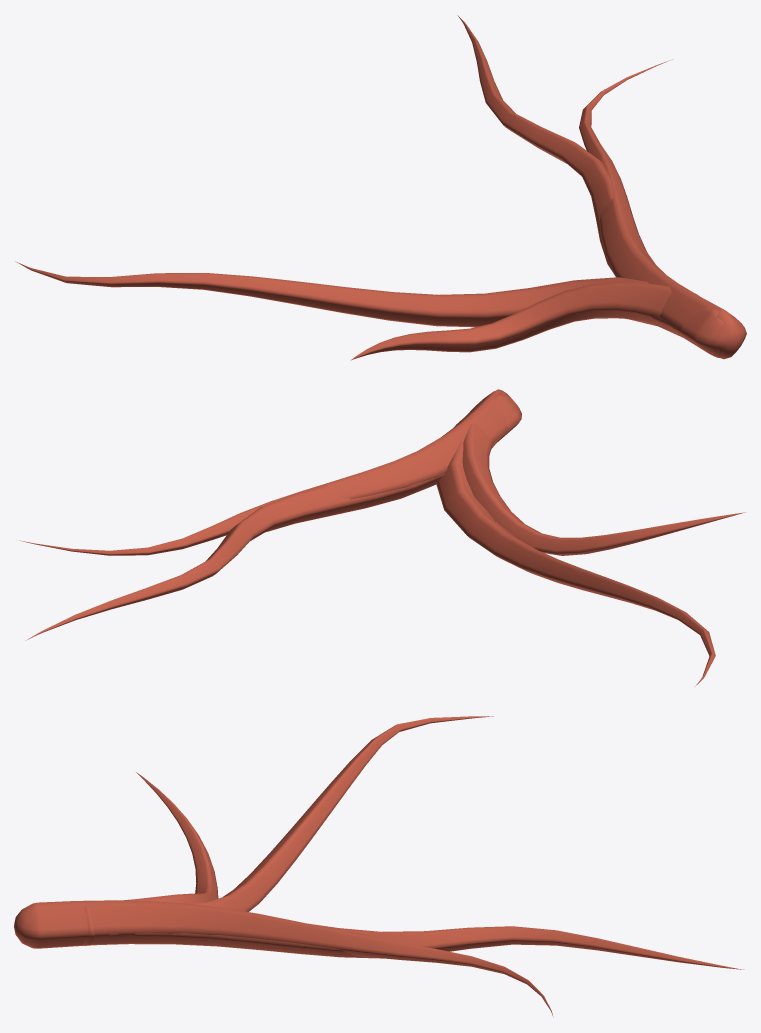
Rendered from fan1 curves.fbx.
3 views of the same model, one above another, from view 1: azimuth 30°, elevation 25°; view 2: azimuth 150°, elevation 25°; view 3: azimuth 270°, elevation 25° (orthographic). The views are drawn at different scales.
Visible parts, largest first — view 1: fan1_curve4, fan1_curve3, fan1_curve2, fan1_curve1; view 2: fan1_curve4, fan1_curve2, fan1_curve1, fan1_curve3; view 3: fan1_curve2, fan1_curve1, fan1_curve4, fan1_curve3.
Part boxes in pixels (x1,y1,x2,y2): fan1_curve4: [15, 261, 724, 357]; fan1_curve3: [350, 282, 697, 360]; fan1_curve2: [579, 59, 746, 359]; fan1_curve1: [457, 15, 615, 276]; fan1_curve4: [436, 392, 715, 686]; fan1_curve2: [19, 389, 517, 555]; fan1_curve1: [26, 473, 444, 640]; fan1_curve3: [455, 412, 745, 555]; fan1_curve2: [14, 900, 553, 1016]; fan1_curve1: [97, 923, 744, 969]; fan1_curve4: [186, 716, 493, 911]; fan1_curve3: [83, 772, 218, 945].
Bounding box in the file's own units: 28.13 × 2.84 × 27.85.
